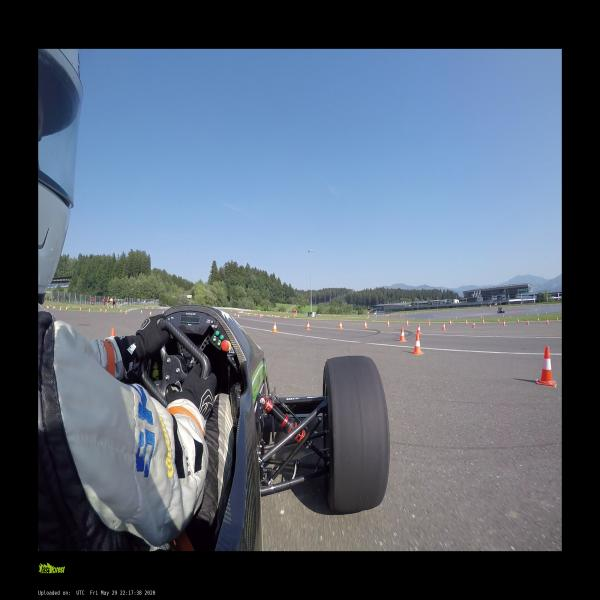orange_cone: (536, 346, 556, 386), (412, 334, 423, 355), (399, 328, 406, 342), (272, 322, 278, 332), (415, 325, 421, 334), (338, 321, 343, 329), (306, 322, 311, 330), (111, 329, 115, 338), (363, 321, 368, 328), (525, 319, 530, 325), (442, 323, 446, 330), (386, 320, 390, 327), (405, 320, 409, 326), (472, 321, 475, 328), (503, 320, 506, 326), (497, 318, 500, 323), (428, 319, 430, 325), (150, 310, 152, 316), (482, 319, 484, 324), (547, 319, 549, 324), (238, 313, 240, 318), (517, 318, 519, 322), (450, 320, 452, 324), (556, 317, 558, 321), (465, 320, 467, 324), (105, 309, 107, 313), (140, 309, 142, 313), (100, 308, 102, 312), (538, 318, 540, 322), (234, 312, 236, 316), (125, 310, 127, 314), (162, 310, 164, 314), (120, 309, 122, 312), (60, 306, 61, 311), (89, 308, 90, 312), (79, 308, 81, 310), (46, 306, 48, 308), (66, 307, 67, 310), (53, 306, 54, 309)
